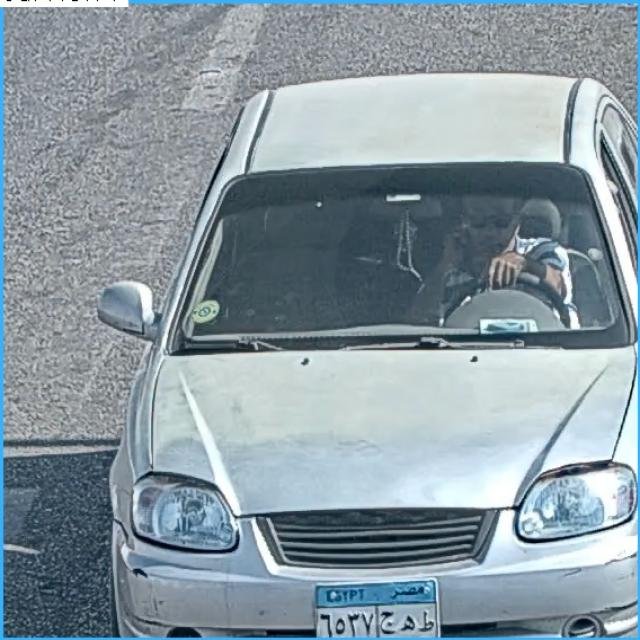windshield: (190, 176, 620, 350)
